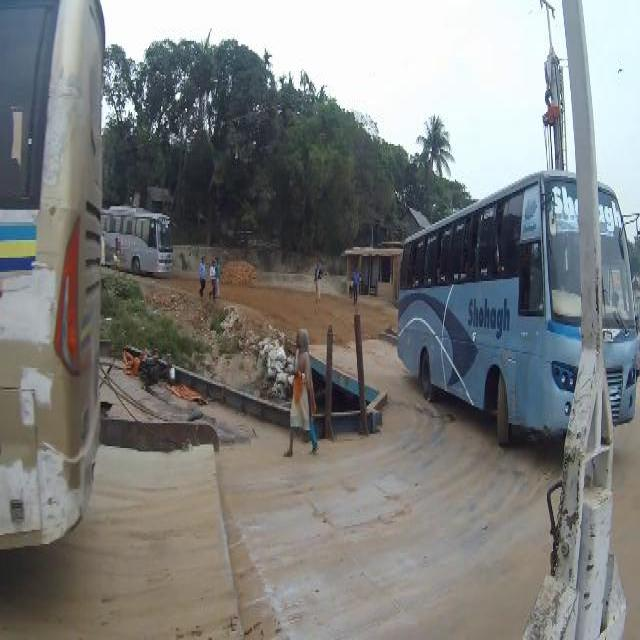vehicle: (400, 171, 637, 443), (104, 206, 173, 276)
